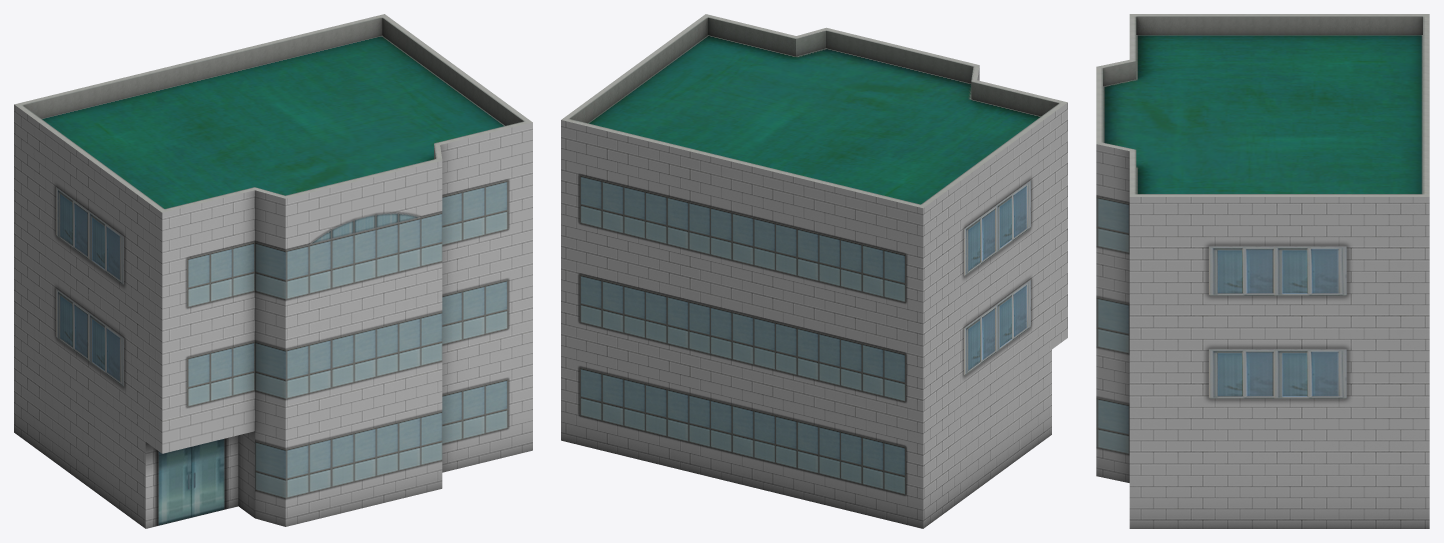
File: 주민센터(11m).glb
The picture shows the model from 3 angles, left to right: view 1: azimuth 30°, elevation 25°; view 2: azimuth 150°, elevation 25°; view 3: azimuth 270°, elevation 25°; orthographic projection. The views are drawn at different scales.
Parts seen in each view (by area): view 1: commu_ce; view 2: commu_ce; view 3: commu_ce.
Boxes of the visible parts, box(x1,y1,x2,y2) form: commu_ce: box(14, 14, 532, 528); commu_ce: box(561, 14, 1067, 528); commu_ce: box(1096, 14, 1429, 528).
Size of the model in its own units: 13 by 11 by 10.
Materials: 1 (1 with a texture image).
